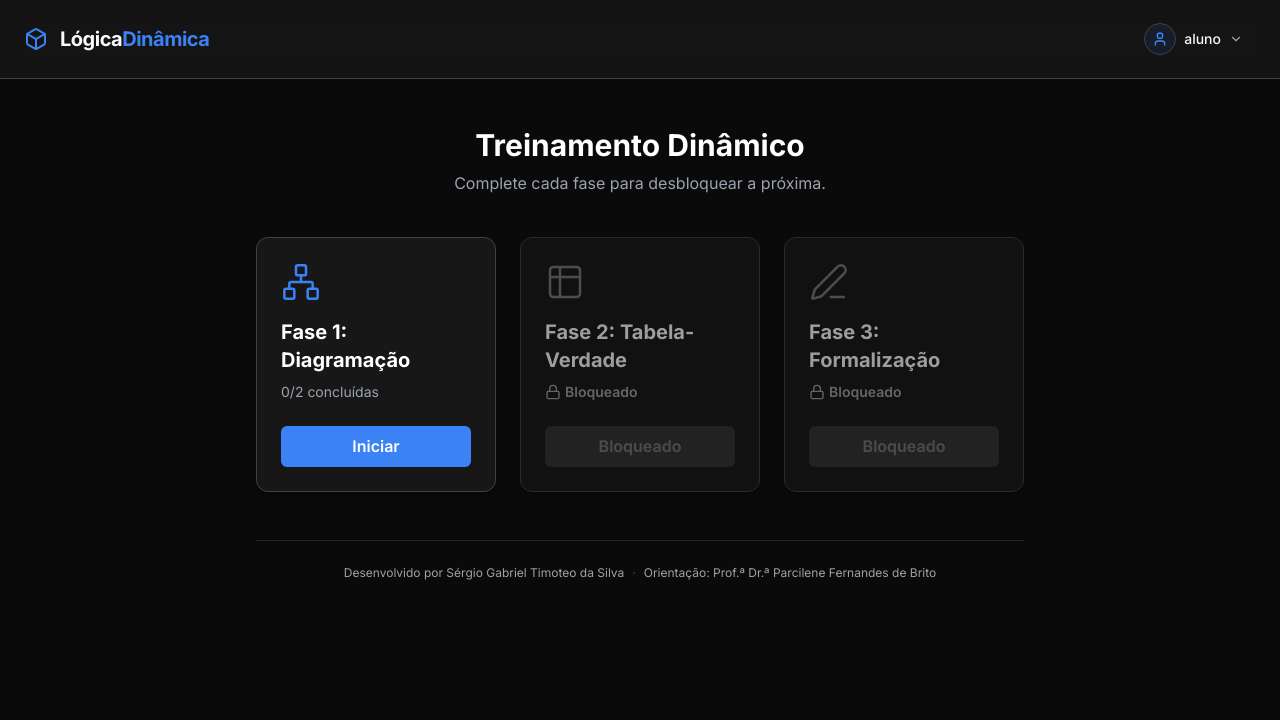
Modal de saída durante a fase › exibe modal de confirmação ao clicar no botão de sair
The width and height of the screenshot is (1280, 720).
Click the button "Iniciar": (376, 446) [281,426,471,467]
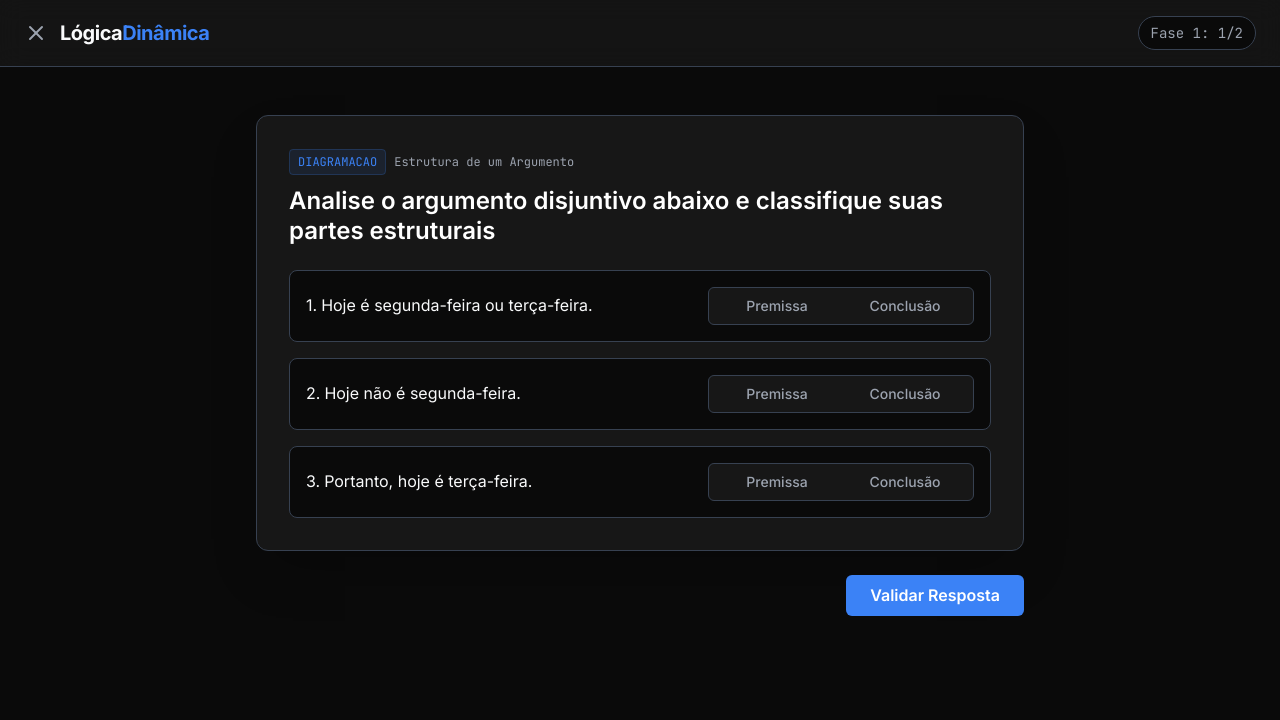
Click the button named "Fechar": (36, 33) [24,21,48,45]
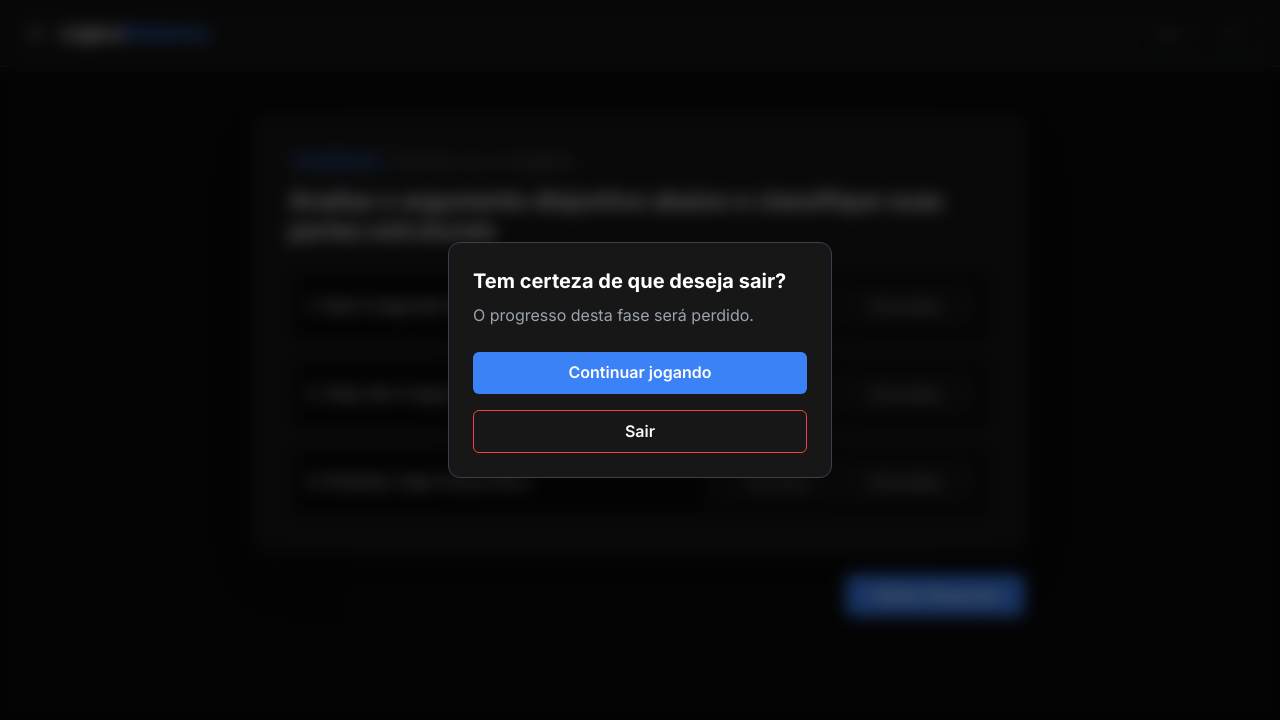
Now the heading "Tem certeza de que deseja sair?" is shown, box [473,267,807,295]
